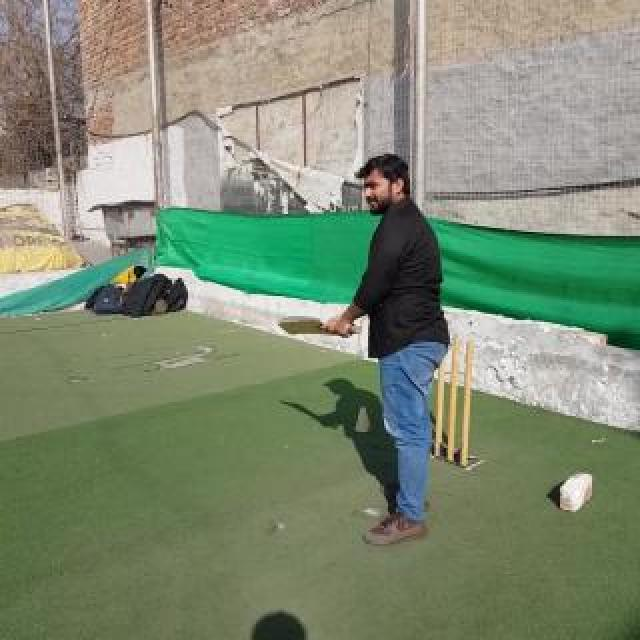bat: (277, 315, 363, 335)
